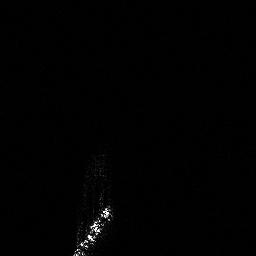ship: (68, 150, 115, 256)
